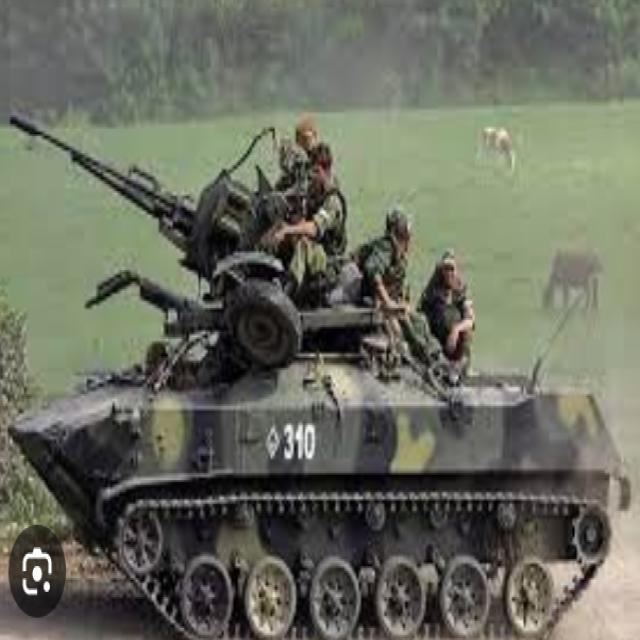MIL_APC: (9, 96, 625, 640)
